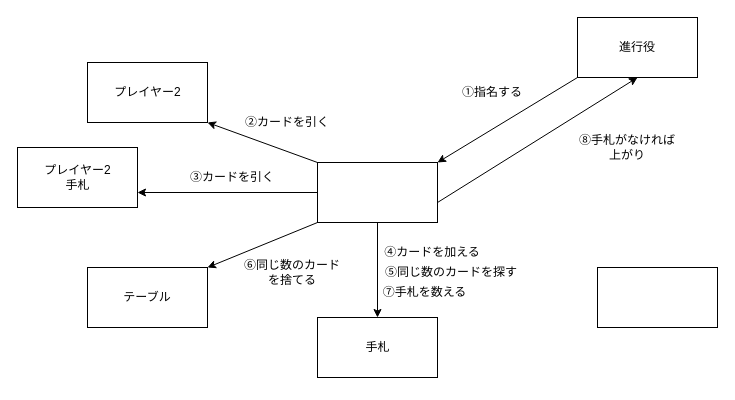
Image size: 735x400. Some labels were removed from this diagram. Here are the shapes that lost their labels. From the top down, the box of each, then its label:
(316, 162, 438, 222): プレイヤー1
(596, 266, 718, 328): カード
